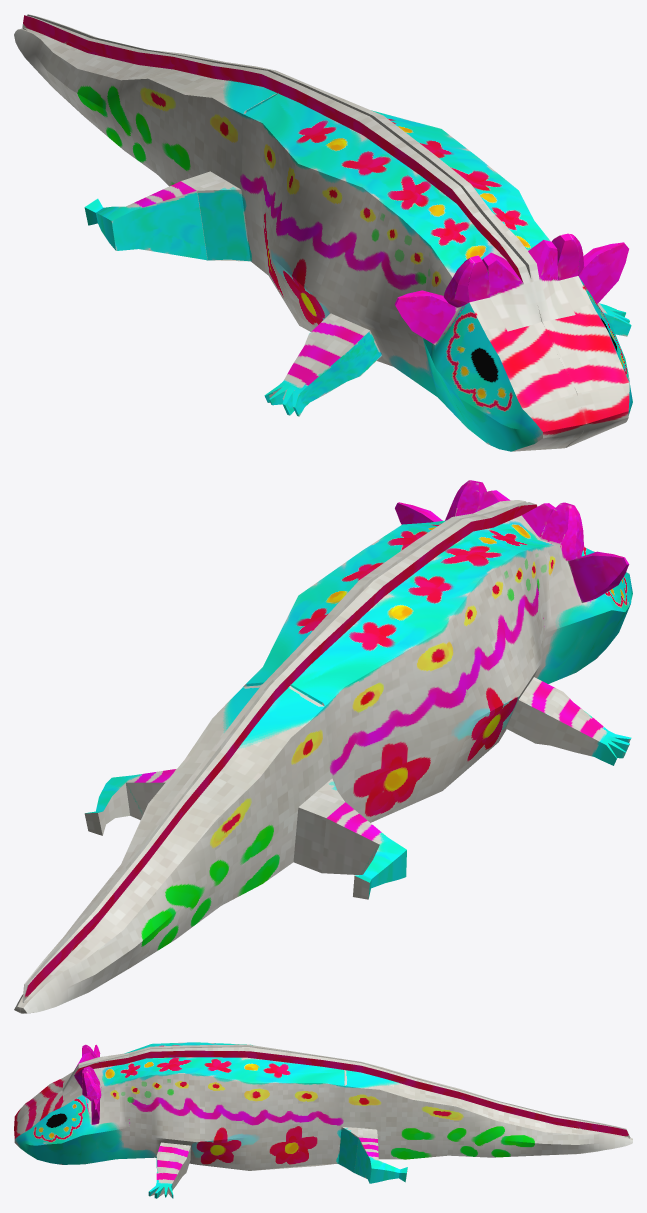
The model's file is axolotl.obj.
The picture shows the model from 3 angles, top to bottom: view 1: azimuth 30°, elevation 25°; view 2: azimuth 150°, elevation 25°; view 3: azimuth 270°, elevation 25°; orthographic projection. The views are drawn at different scales.
Visible parts, largest first — view 1: Axolote; view 2: Axolote; view 3: Axolote.
Part boxes in pixels (left/top/right/bottom): Axolote: left=14, top=14, right=632, bottom=451; Axolote: left=14, top=480, right=632, bottom=1013; Axolote: left=14, top=1042, right=632, bottom=1198.
Bounding box in the file's own units: 3.98 × 2.31 × 10.94.
1 material, 1 textured.
